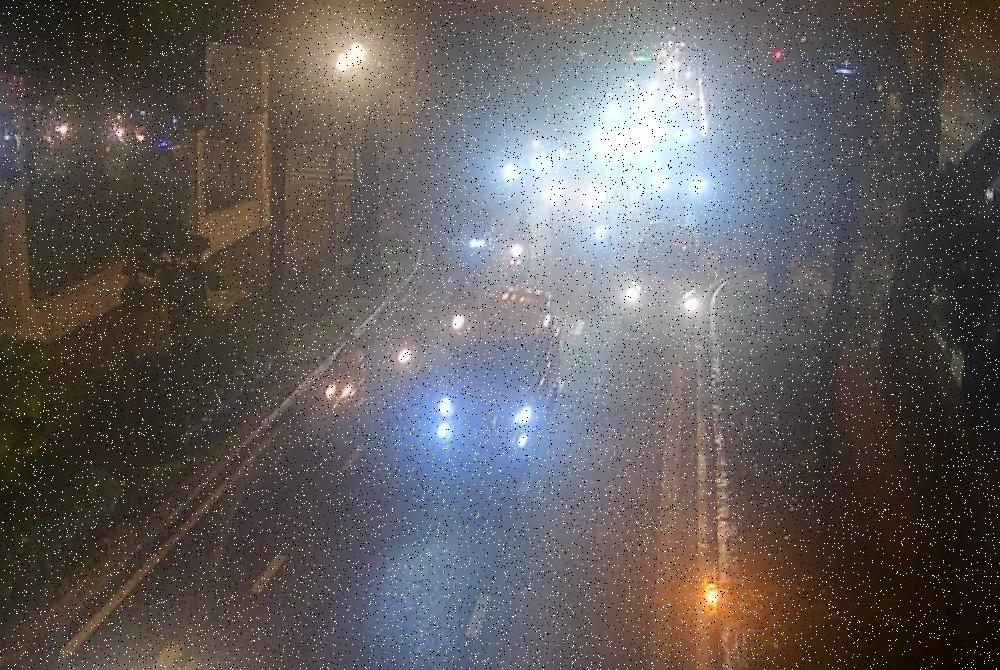car: (427, 285, 559, 478), (622, 217, 706, 337)
